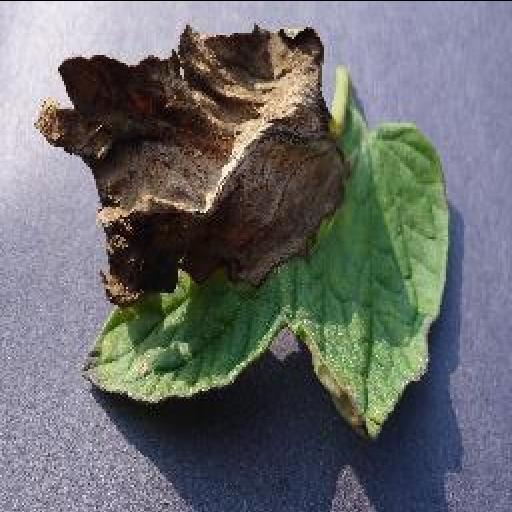disease_tomato: (32, 21, 454, 451)
